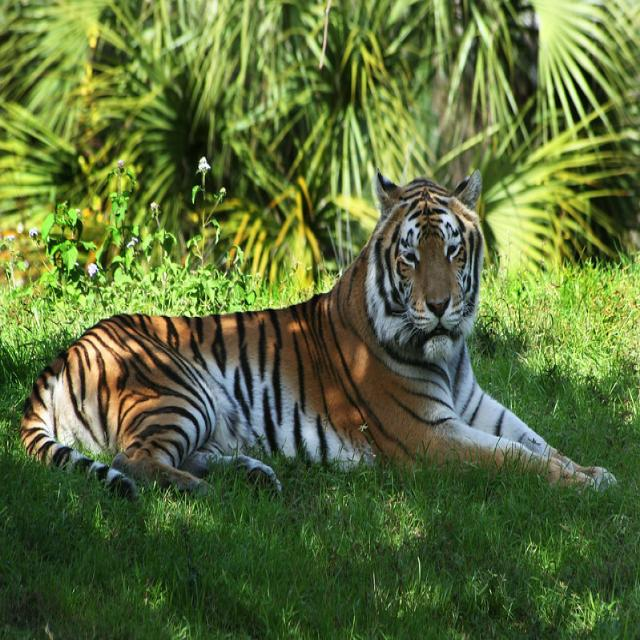Tiger: (21, 164, 622, 506)
